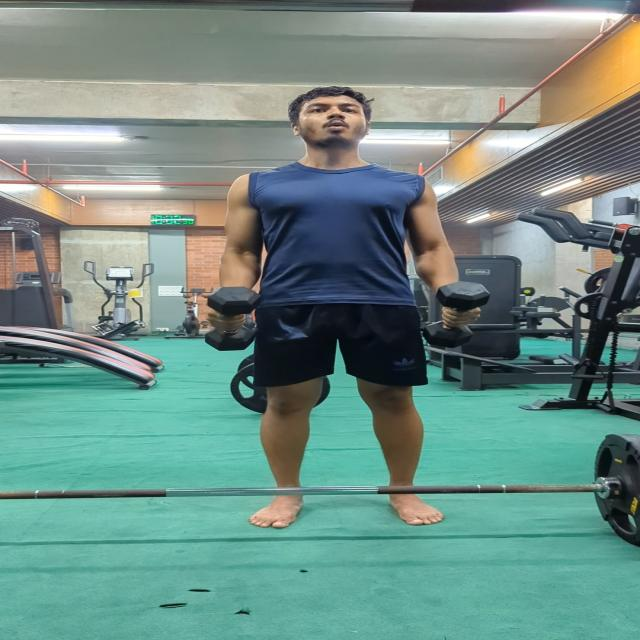Normal_DumbbellBicepCurls: (185, 82, 502, 535)
